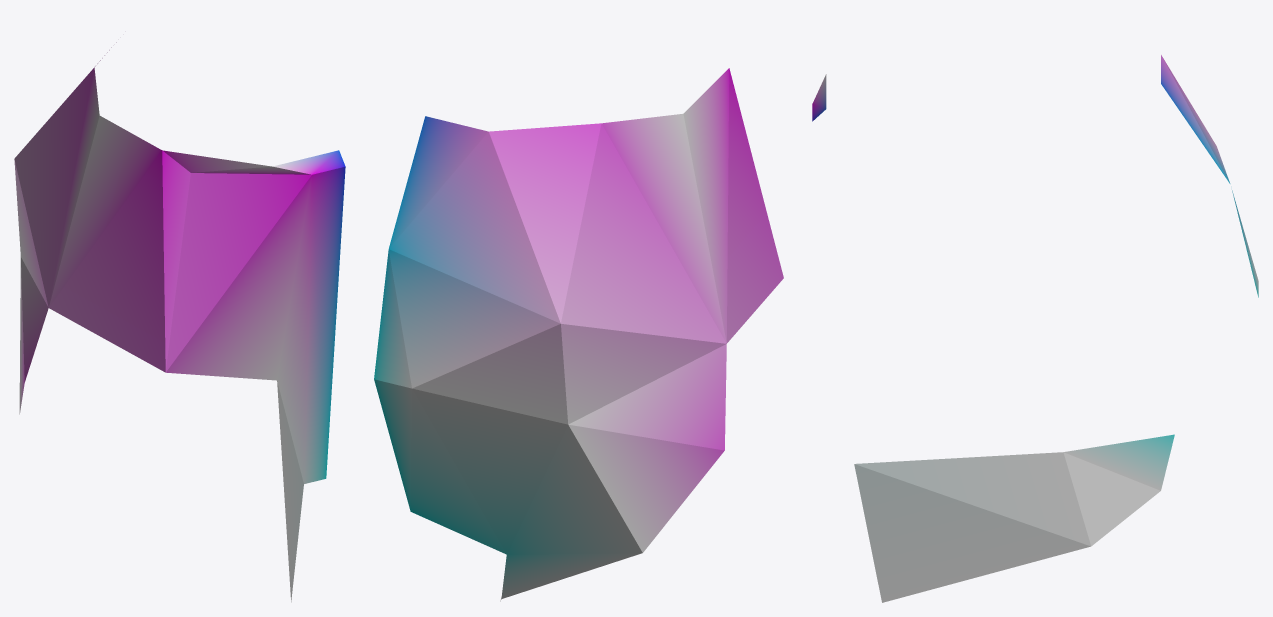
The picture shows the model from 3 angles, left to right: view 1: azimuth 30°, elevation 25°; view 2: azimuth 150°, elevation 25°; view 3: azimuth 270°, elevation 25°; orthographic projection. The views are drawn at different scales.
Visible parts, largest first — view 1: model_10F7; view 2: model_10F7; view 3: model_10F7.
Part boxes in pixels (<box>): model_10F7: <box>14,42,345,602</box>; model_10F7: <box>374,68,783,601</box>; model_10F7: <box>812,55,1258,602</box>.
Size of the model in its own units: 19 by 42 by 32.
